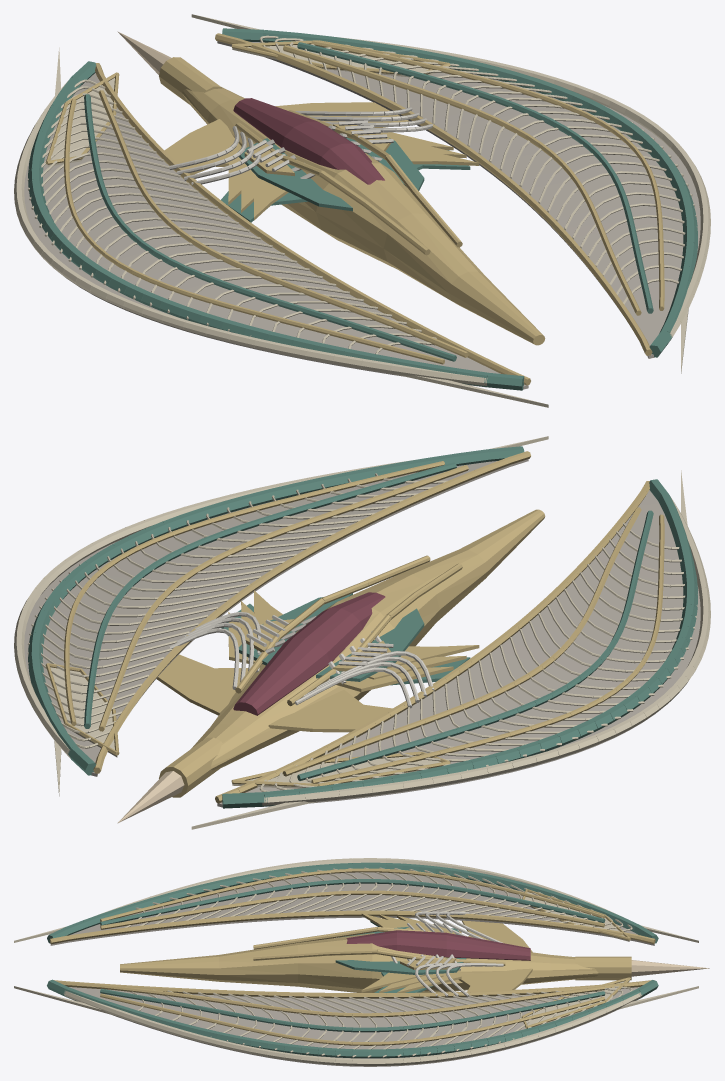
File: mik_emerald_flight.glb
The picture shows the model from 3 angles, top to bottom: view 1: azimuth 30°, elevation 25°; view 2: azimuth 150°, elevation 25°; view 3: azimuth 270°, elevation 25°; orthographic projection. The views are drawn at different scales.
Visible parts, largest first — view 1: material_0, material_2, material_4, material_3, material_1, material_5, material_6; view 2: material_0, material_2, material_4, material_3, material_1, material_5, material_6; view 3: material_0, material_2, material_4, material_3, material_1, material_5, material_6.
Part boxes in pixels (x1,y1,x2,y2): material_0: (45, 33, 664, 385); material_2: (24, 41, 700, 389); material_4: (14, 14, 710, 407); material_3: (28, 28, 697, 390); material_1: (233, 98, 384, 184); material_5: (169, 107, 433, 185); material_6: (117, 31, 171, 74); material_0: (45, 451, 664, 803); material_2: (24, 459, 700, 807); material_4: (14, 436, 710, 829); material_3: (28, 446, 697, 808); material_1: (233, 592, 385, 715); material_5: (169, 612, 434, 708); material_6: (117, 771, 184, 823); material_0: (49, 868, 655, 1045); material_2: (50, 872, 654, 1066); material_4: (14, 858, 698, 1065); material_3: (47, 862, 658, 1058); material_1: (346, 930, 530, 960); material_5: (391, 911, 503, 996); material_6: (631, 960, 709, 976).
Bounding box in the file's own units: 4.87 × 0.65 × 7.04.
